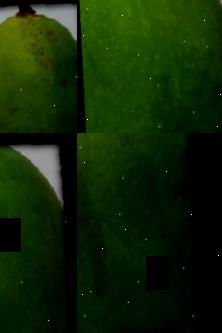Unripe: (77, 133, 222, 333), (77, 0, 222, 133), (0, 133, 77, 333), (0, 0, 77, 133)
